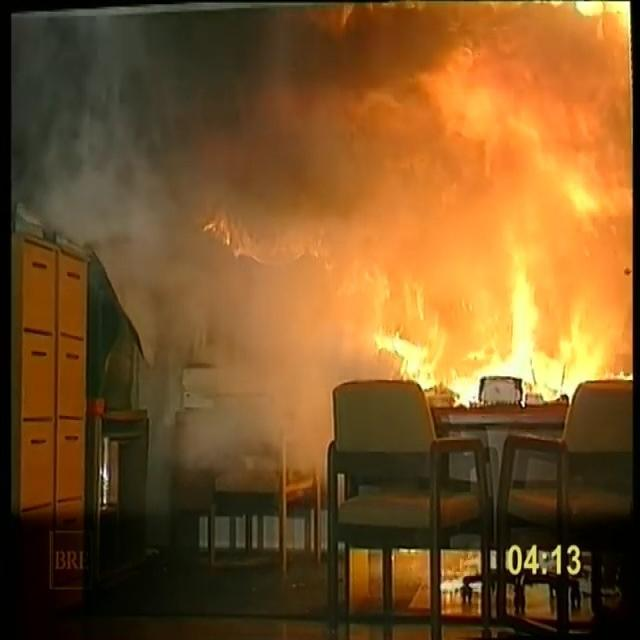Fire: (250, 12, 630, 386)
